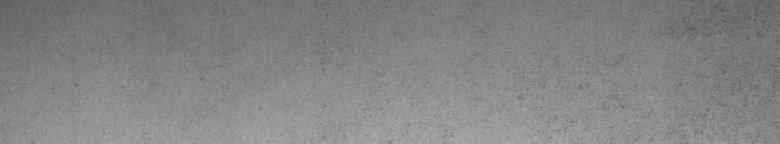ib: (690, 12, 764, 107)
